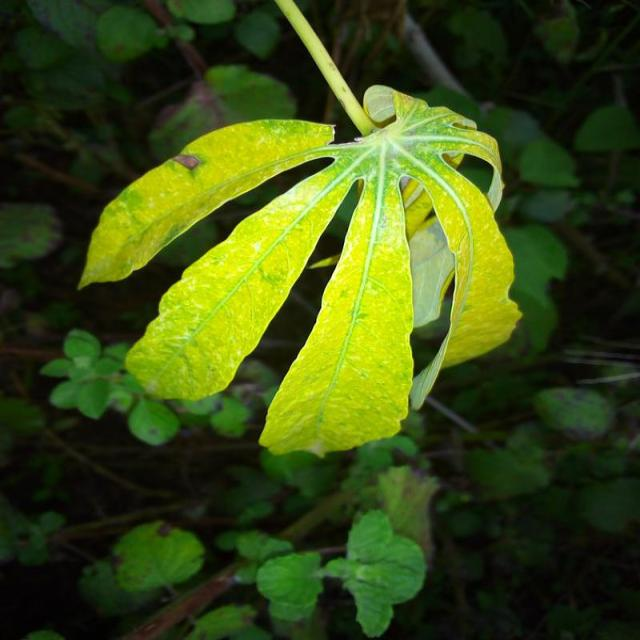cassava leaf: (82, 82, 522, 457), (76, 116, 336, 291)
